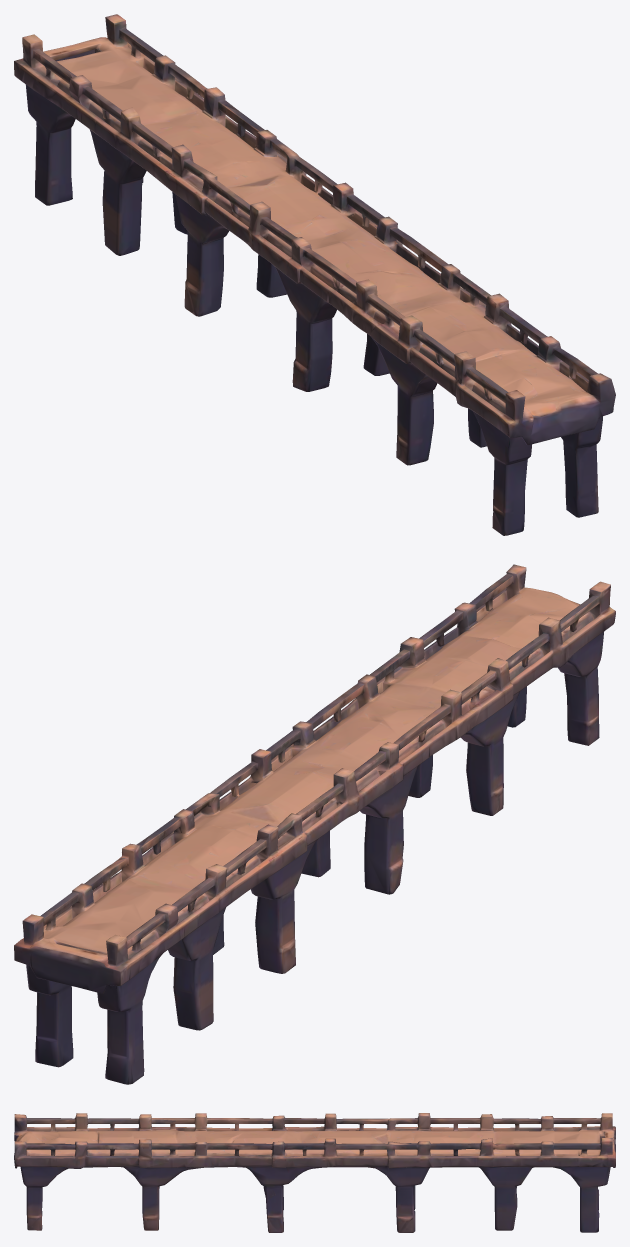
File: props-bridge.glb
3 views of the same model, one above another, from view 1: azimuth 30°, elevation 25°; view 2: azimuth 150°, elevation 25°; view 3: azimuth 270°, elevation 25° (orthographic). The views are drawn at different scales.
Size of the model in its own units: 0.1471 by 0.1975 by 1.18.
Materials: 1 (1 with a texture image).
